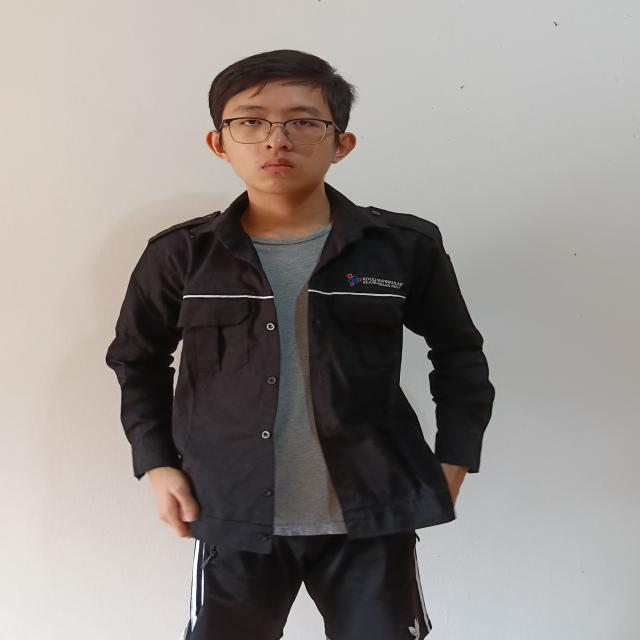person_with_labcoat: (107, 51, 494, 640)
